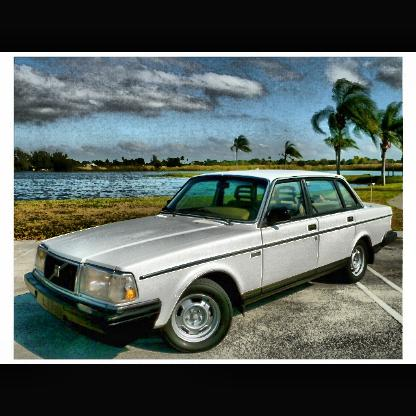Volvo 240 Sedan 1993: (23, 168, 396, 357)
